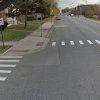Crosswalk: (51, 37, 100, 44)
